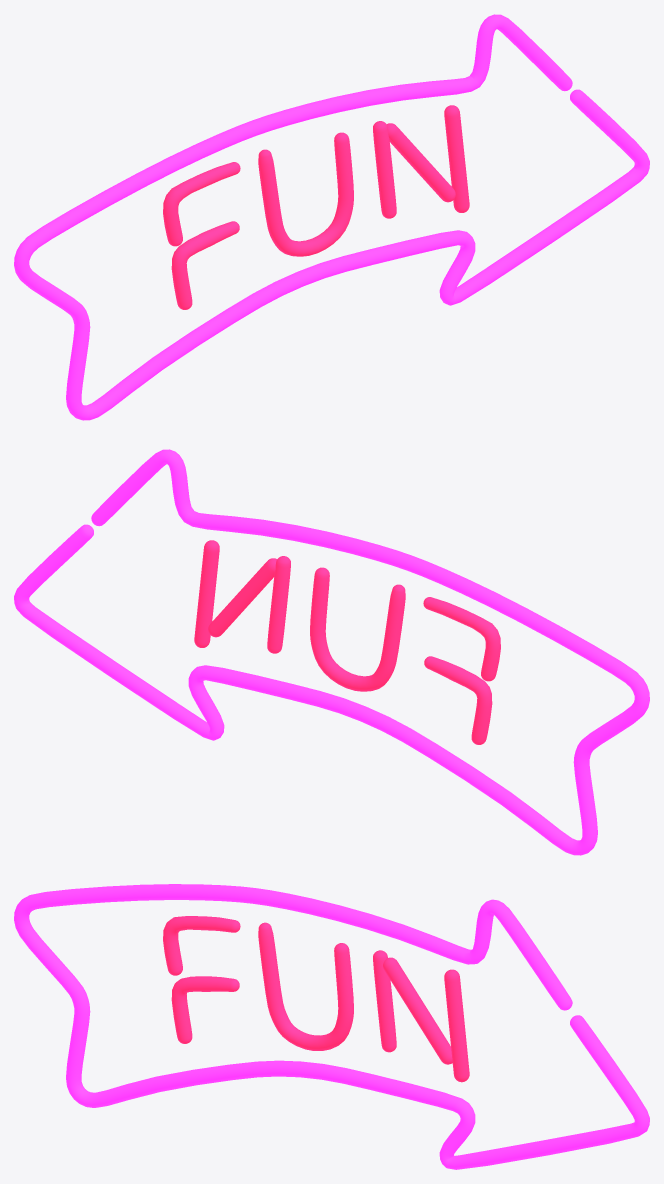
Rendered from neon_fun.glb.
The picture shows the model from 3 angles, top to bottom: view 1: azimuth 30°, elevation 25°; view 2: azimuth 150°, elevation 25°; view 3: azimuth 330°, elevation 25°; orthographic projection.
Visible parts, largest first — view 1: fun_arrow; view 2: fun_arrow; view 3: fun_arrow.
Part boxes in pixels (<box>): fun_arrow: <box>14,14,649,420</box>; fun_arrow: <box>14,449,649,855</box>; fun_arrow: <box>14,884,649,1169</box>.
Size of the model in its own units: 3 by 1.38 by 0.0655.
